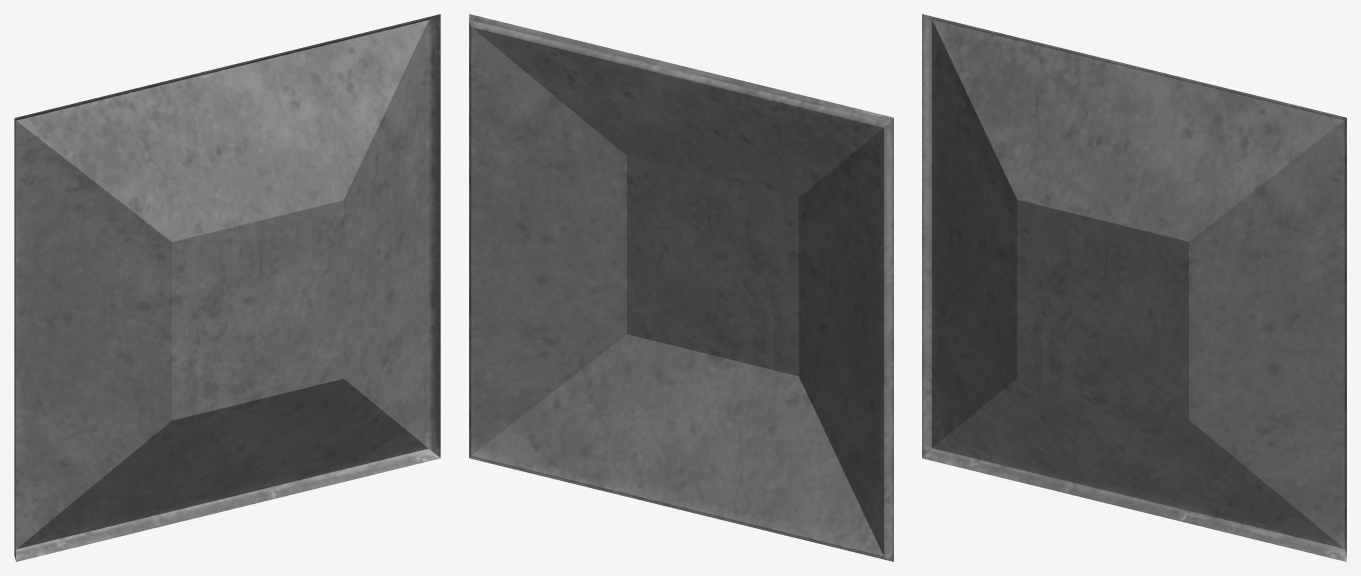
File: SM_Wall_04.fbx
The picture shows the model from 3 angles, left to right: view 1: azimuth 30°, elevation 25°; view 2: azimuth 150°, elevation 25°; view 3: azimuth 330°, elevation 25°; orthographic projection.
Visible parts, largest first — view 1: SM_Wall_04; view 2: SM_Wall_04; view 3: SM_Wall_04.
Boxes of the visible parts, x1=… form: SM_Wall_04: x1=14, y1=14, x2=440, y2=561; SM_Wall_04: x1=469, y1=14, x2=893, y2=561; SM_Wall_04: x1=922, y1=14, x2=1346, y2=561.
Bounding box in the file's own units: 100 × 100 × 14.38.
